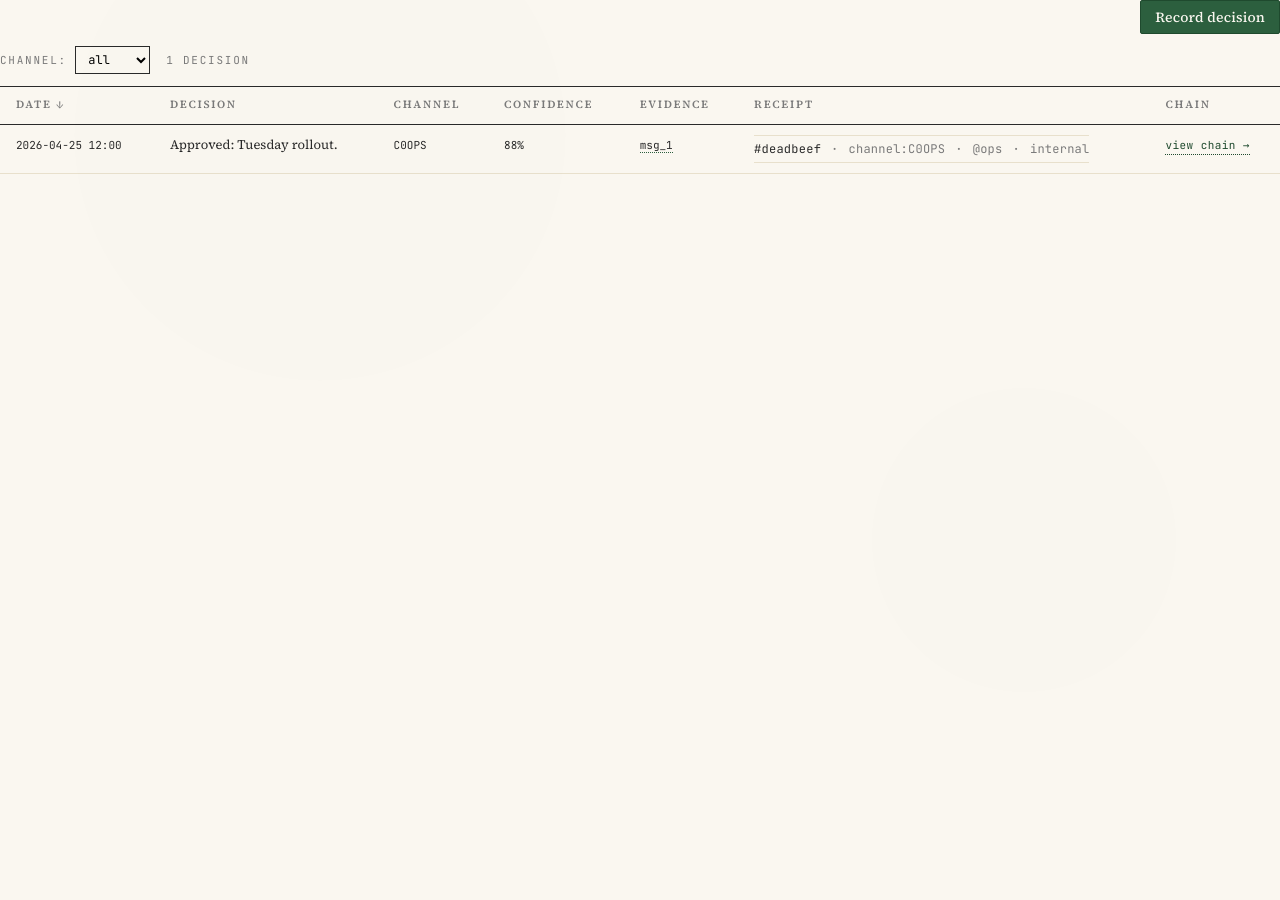
it: DecisionsClient › closes the drawer when the scrim is clicked
Step 1. Click the button with test id "decisions-record-open" → (1210,17), box [1140, 0, 1279, 34]
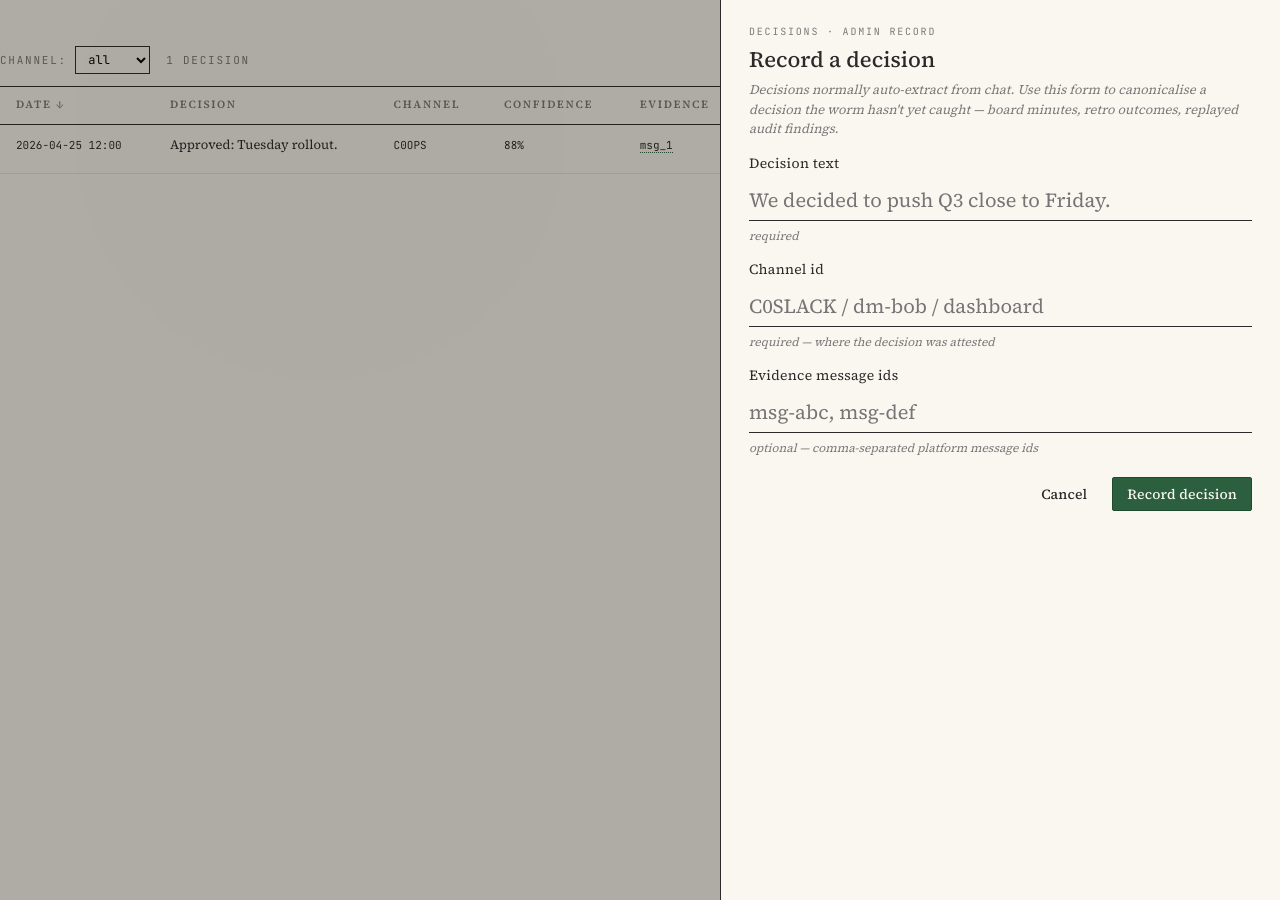
Expected: the dialog with test id "decision-detail-drawer" is shown
Step 2. Click the button with test id "decision-drawer-scrim" → (640,450), box [0, 0, 1279, 899]
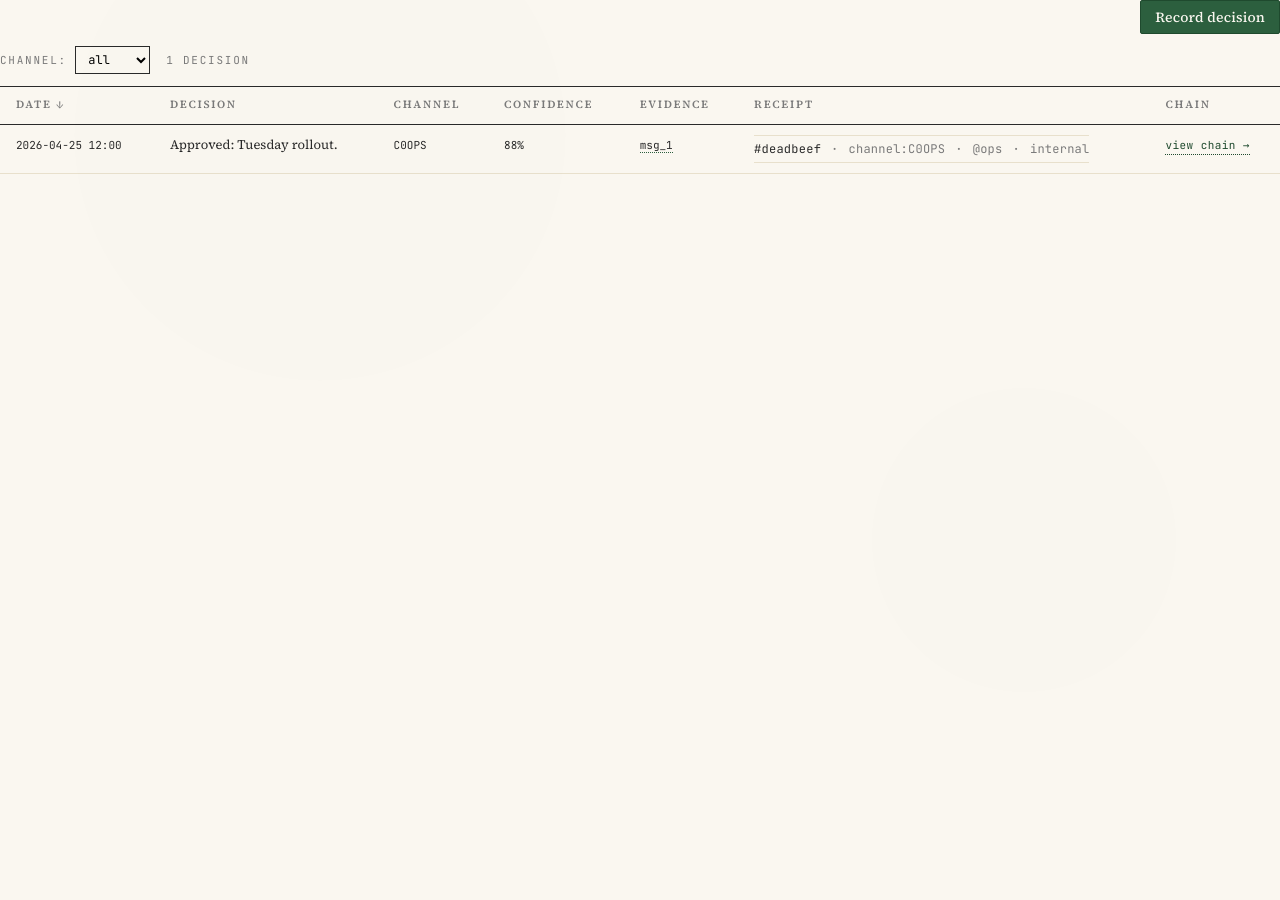
Expected: the dialog with test id "decision-detail-drawer" is gone
